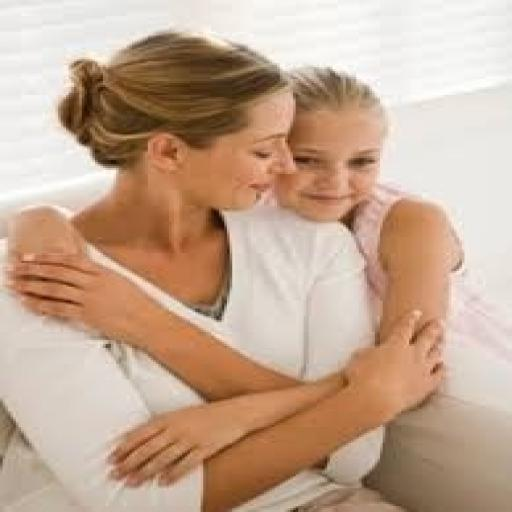hugging: (3, 30, 454, 510)
